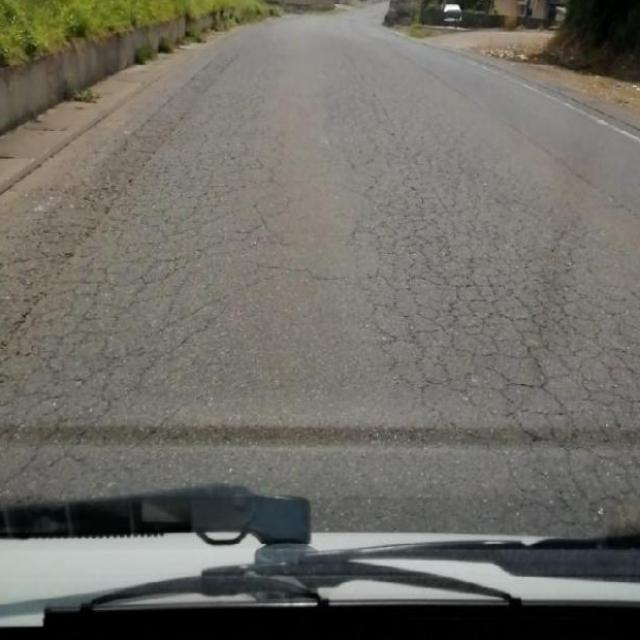Retak Buaya: (355, 148, 640, 522), (8, 169, 236, 482)
